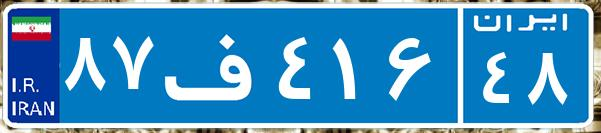1: (330, 28, 385, 110)
4: (273, 28, 330, 110), (475, 38, 525, 113)
6: (385, 28, 445, 110)
7: (110, 28, 158, 105)
8: (57, 26, 110, 107), (525, 38, 570, 115)
ف: (158, 15, 273, 115)
